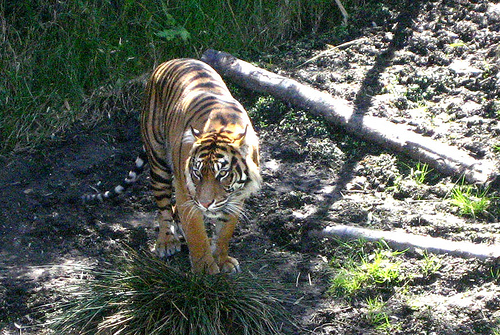Tigre: (121, 60, 257, 279)
